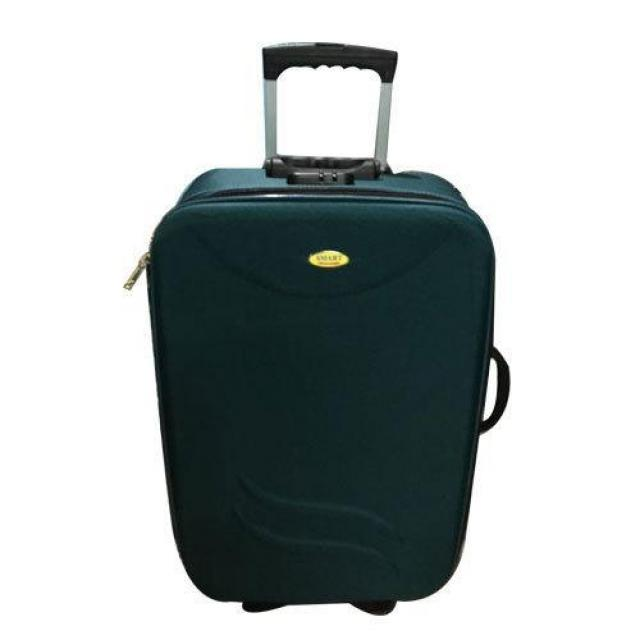luggage: (123, 150, 520, 614)
